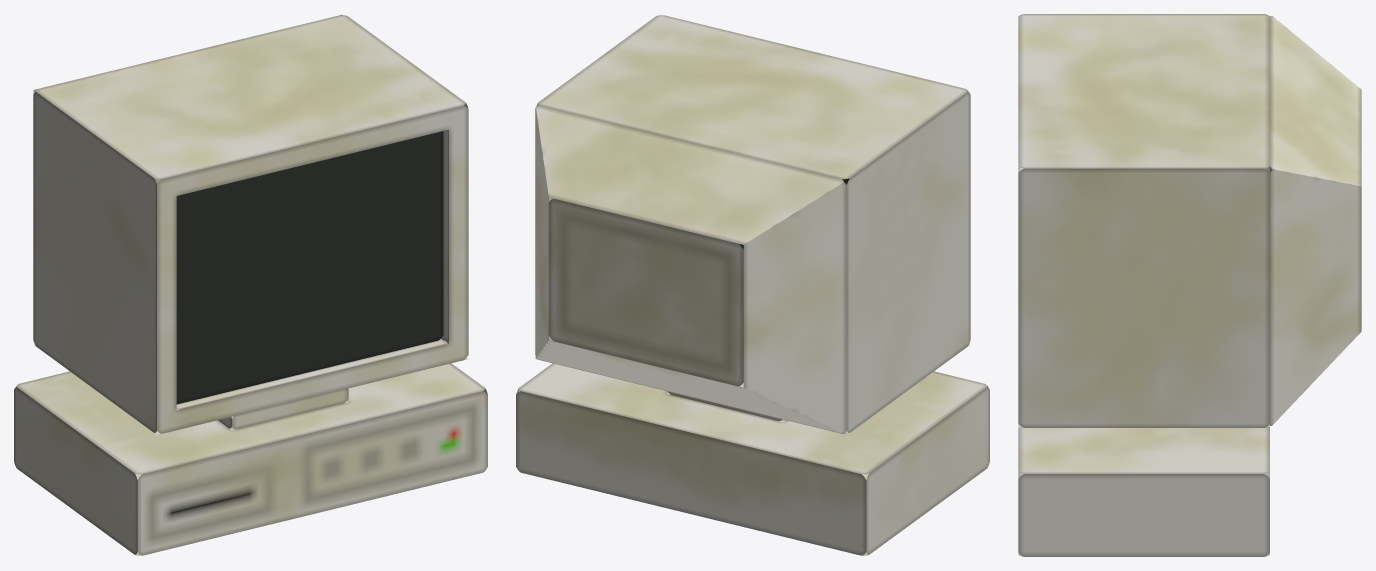
The model's file is Computer Screen.obj.
The picture shows the model from 3 angles, left to right: view 1: azimuth 30°, elevation 25°; view 2: azimuth 150°, elevation 25°; view 3: azimuth 270°, elevation 25°; orthographic projection.
Parts seen in each view (by area): view 1: cuboid; view 2: cuboid; view 3: cuboid.
Part boxes in pixels (x1=…): cuboid: x1=14, y1=15, x2=487, y2=555; cuboid: x1=516, y1=15, x2=989, y2=555; cuboid: x1=1018, y1=14, x2=1361, y2=556.
Bounding box in the file's own units: 1.12 × 1.14 × 0.9375.
1 material, 1 textured.
